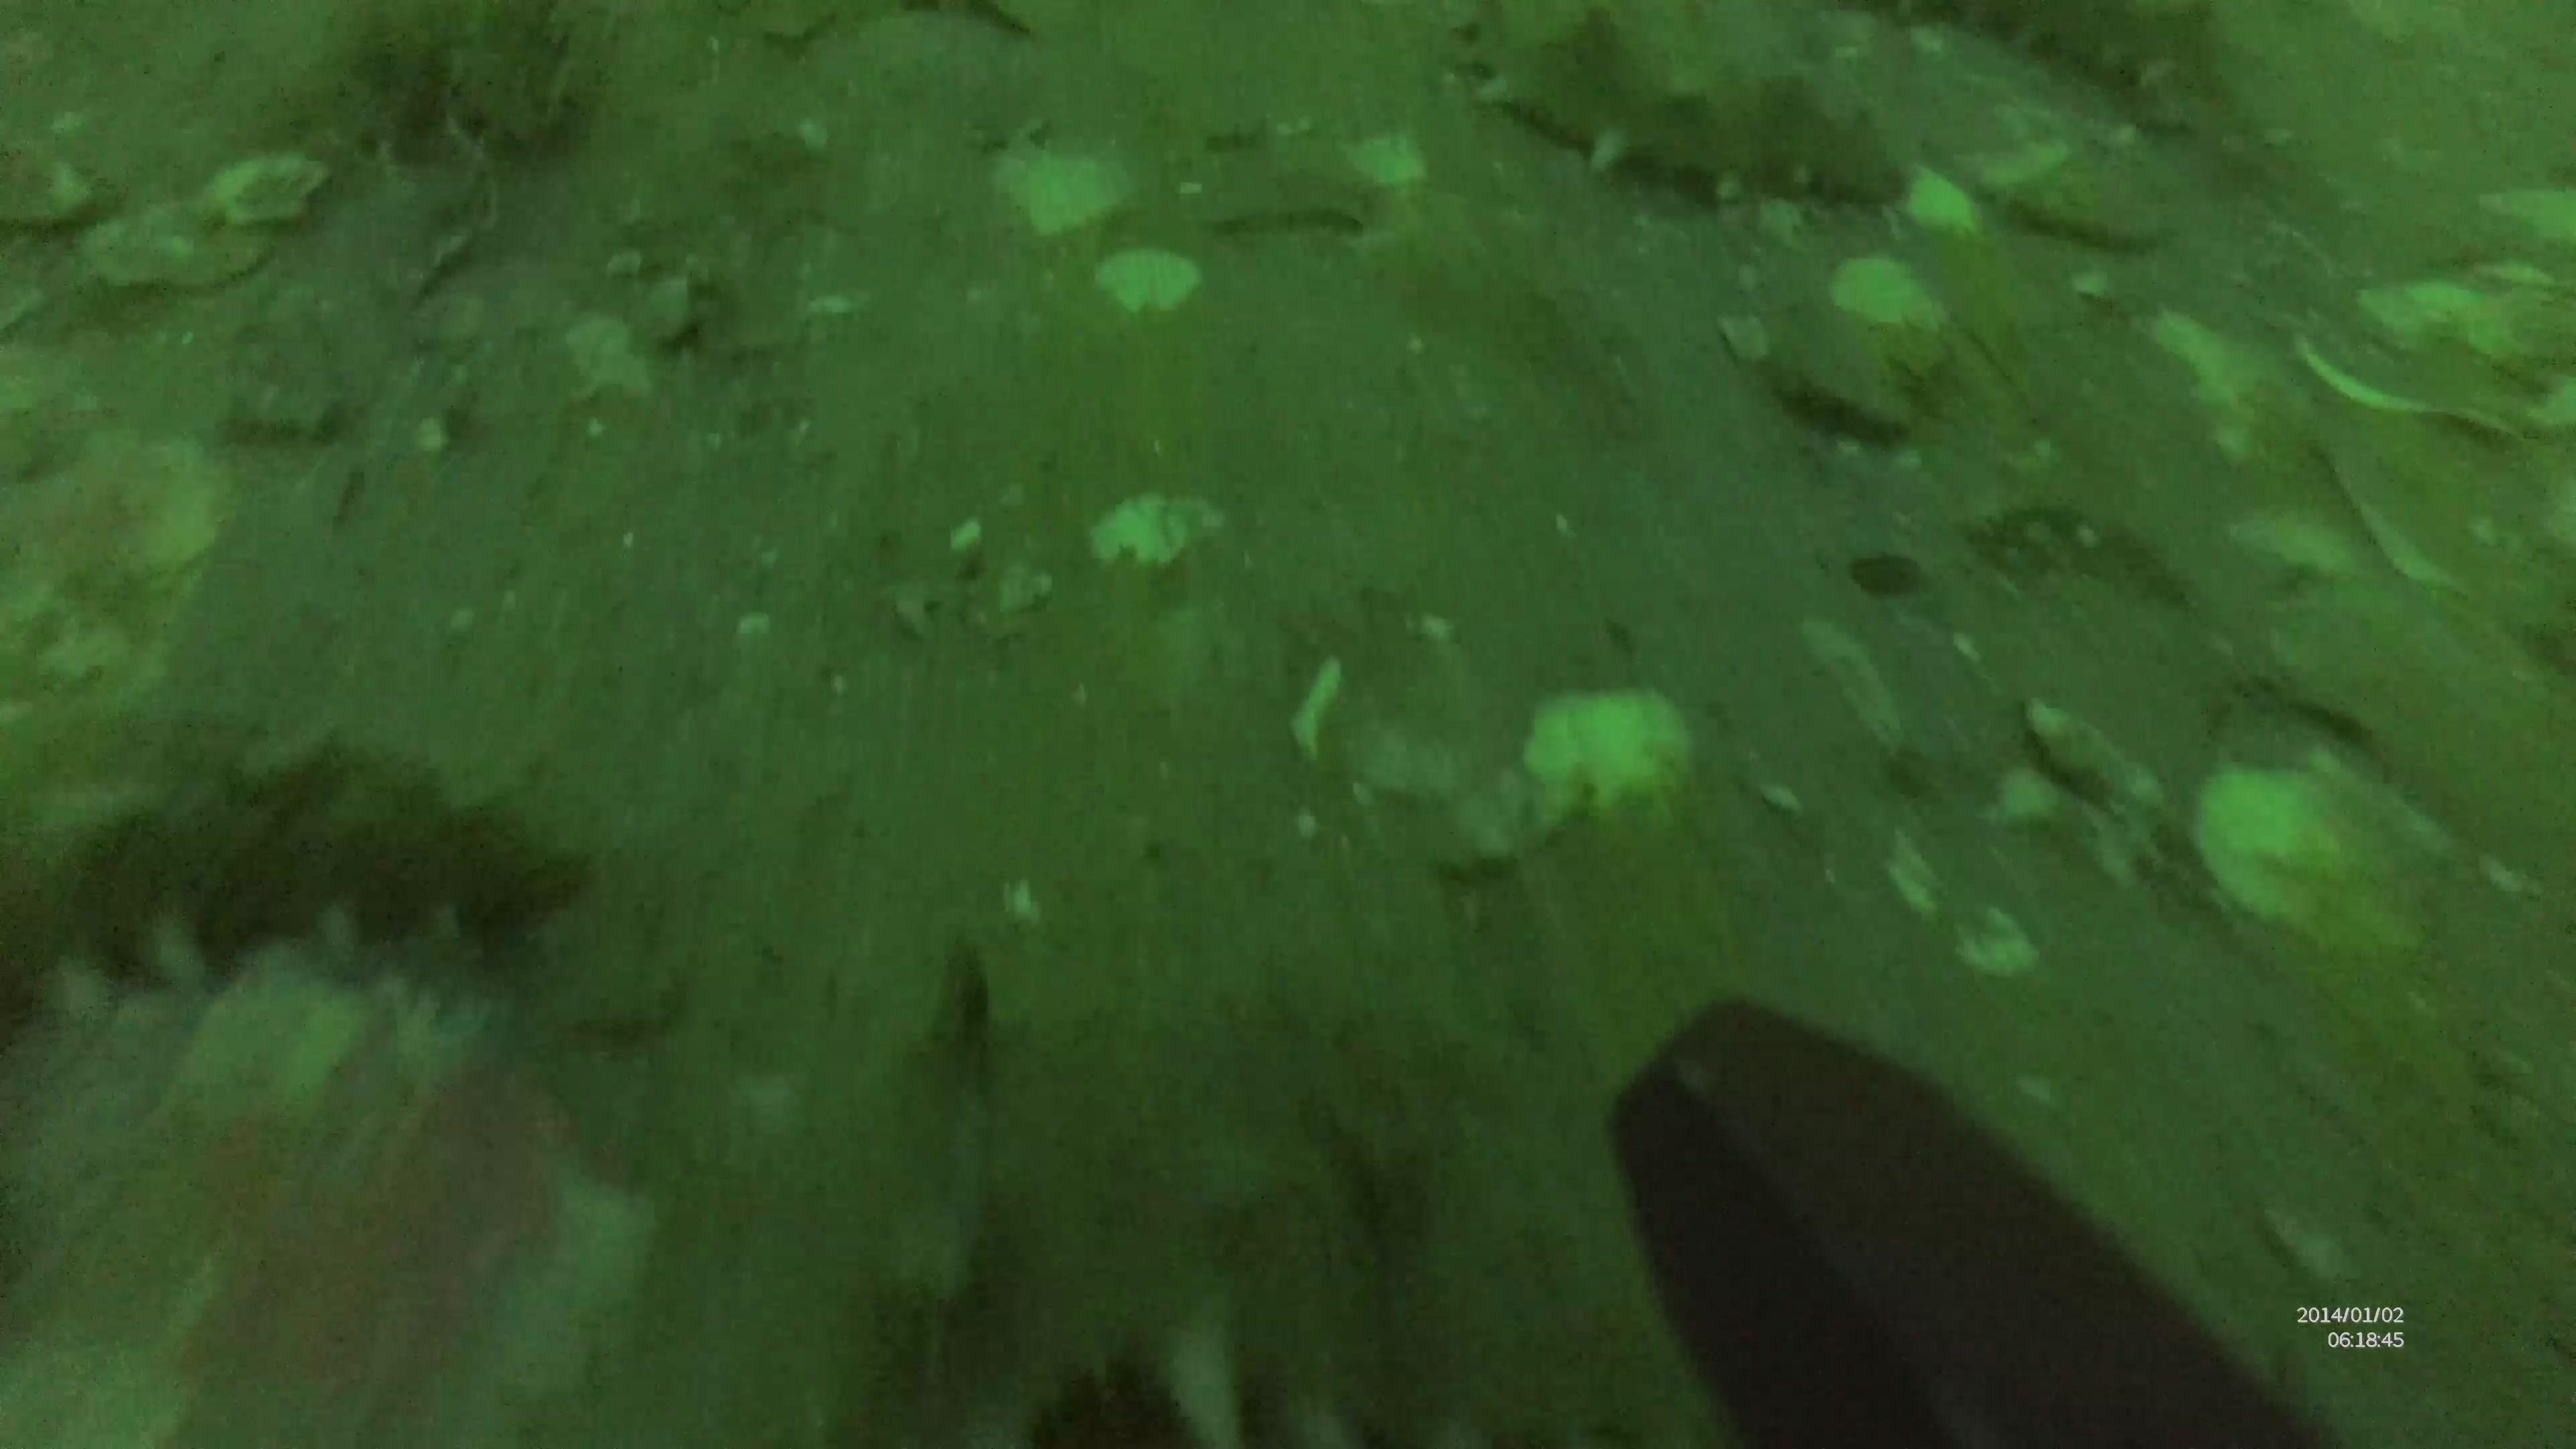holothurian: (0, 738, 577, 975), (1438, 16, 1884, 205)
scallop: (2187, 741, 2459, 955)
